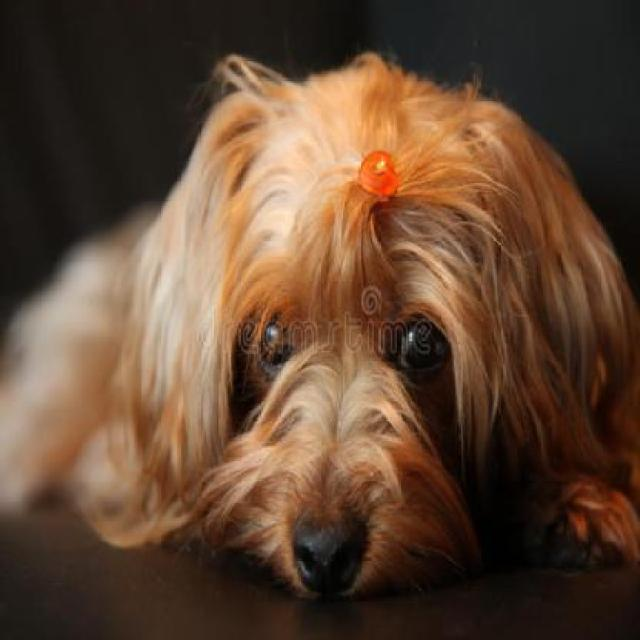animals: (104, 49, 630, 640)
